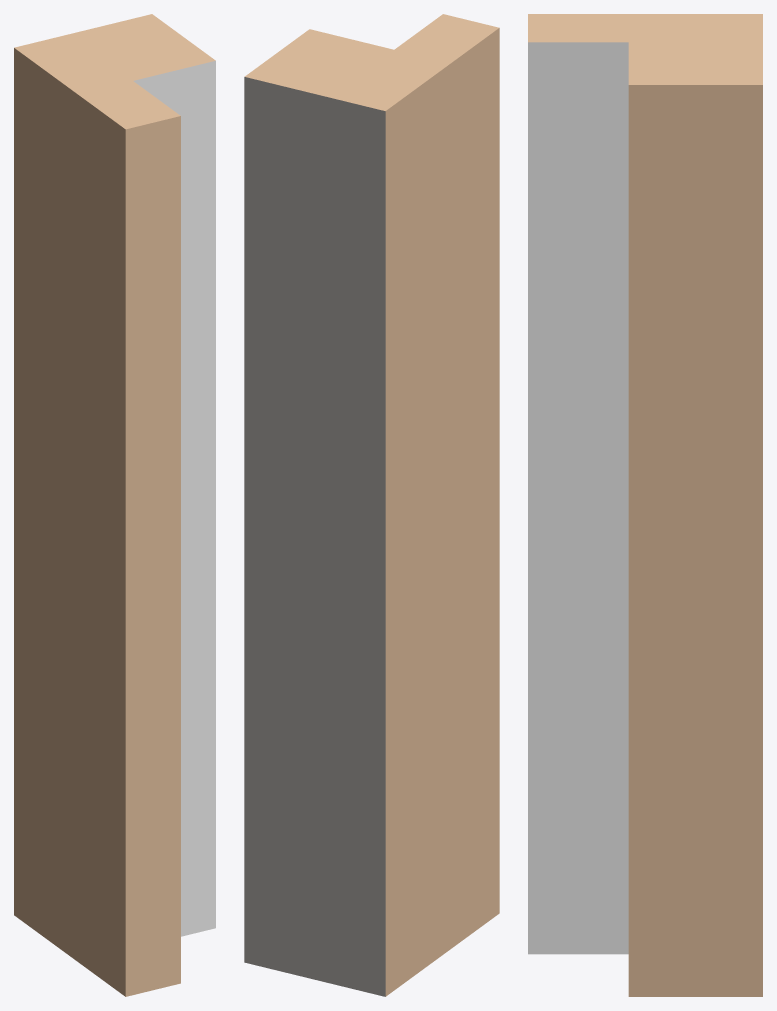
File: buildings_house-wall-corner-half.fbx
3 views of the same model, side by side, from view 1: azimuth 30°, elevation 25°; view 2: azimuth 150°, elevation 25°; view 3: azimuth 270°, elevation 25° (orthographic). The views are drawn at different scales.
Visible parts, largest first — view 1: buildings_house_wall_corner_half; view 2: buildings_house_wall_corner_half; view 3: buildings_house_wall_corner_half.
Part boxes in pixels (<box>): buildings_house_wall_corner_half: <box>14,14,215,996</box>; buildings_house_wall_corner_half: <box>244,14,499,996</box>; buildings_house_wall_corner_half: <box>528,14,762,996</box>.
Bounding box in the file's own units: 33.33 × 200 × 46.67.
